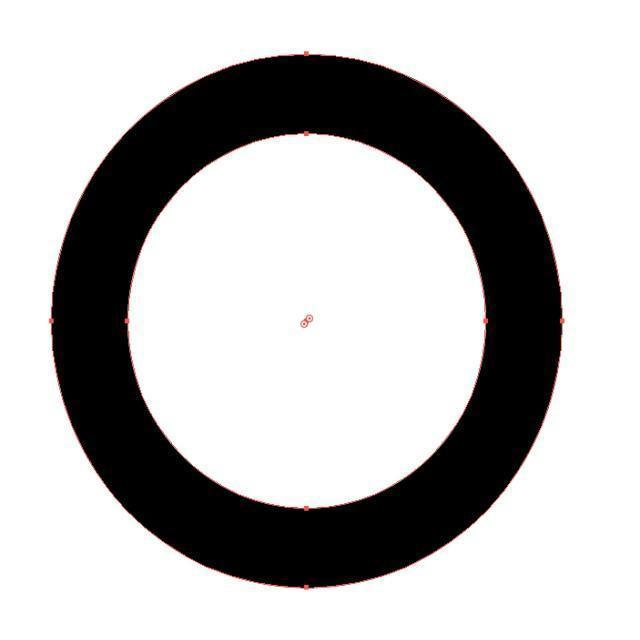Circle: (48, 50, 564, 592)
